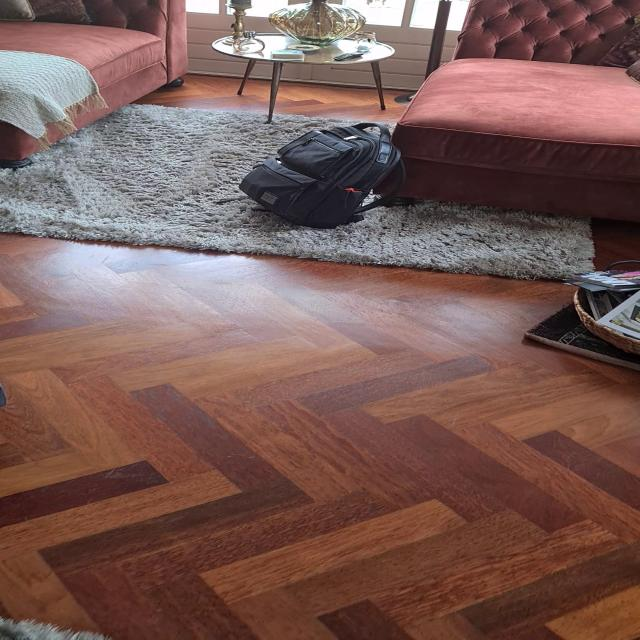backpack: (232, 119, 413, 231)
